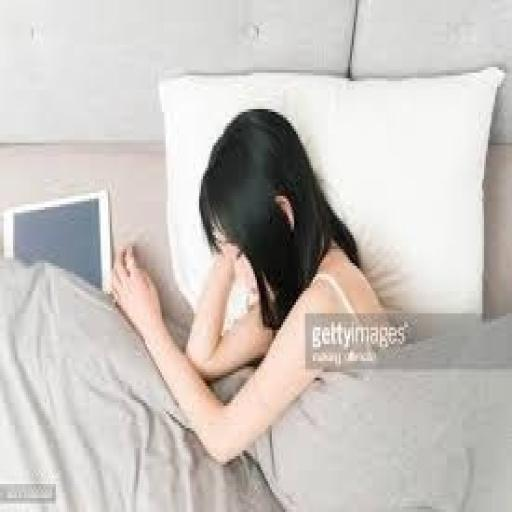sleeping: (106, 101, 406, 464)
